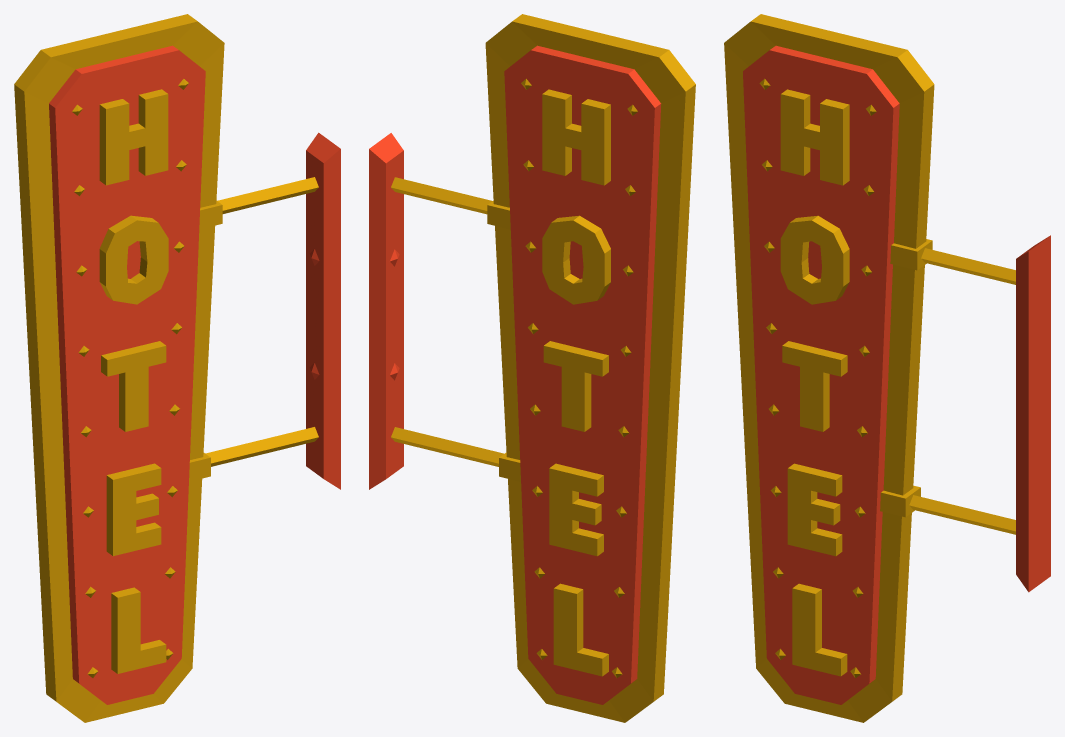
The model's file is SM_Neon_Hotel_City.fbx.
The picture shows the model from 3 angles, left to right: view 1: azimuth 30°, elevation 25°; view 2: azimuth 150°, elevation 25°; view 3: azimuth 330°, elevation 25°; orthographic projection.
Visible parts, largest first — view 1: SM_Neon_Hotel_City; view 2: SM_Neon_Hotel_City; view 3: SM_Neon_Hotel_City.
Boxes of the visible parts, x1,y1,x2,y2 form: SM_Neon_Hotel_City: (14, 14, 340, 722); SM_Neon_Hotel_City: (369, 14, 695, 722); SM_Neon_Hotel_City: (724, 14, 1050, 722).
Size of the model in its own units: 1.22 by 2.53 by 0.2399.
